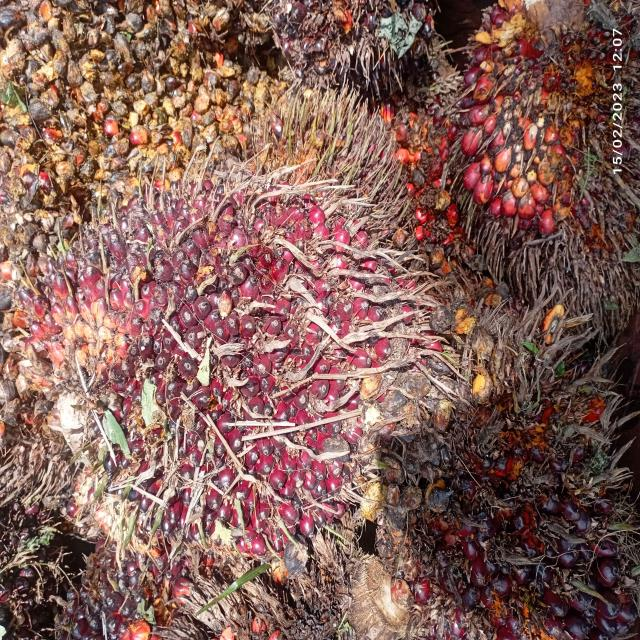fraksi 1: (25, 138, 443, 616), (356, 316, 640, 640), (441, 0, 624, 277)
